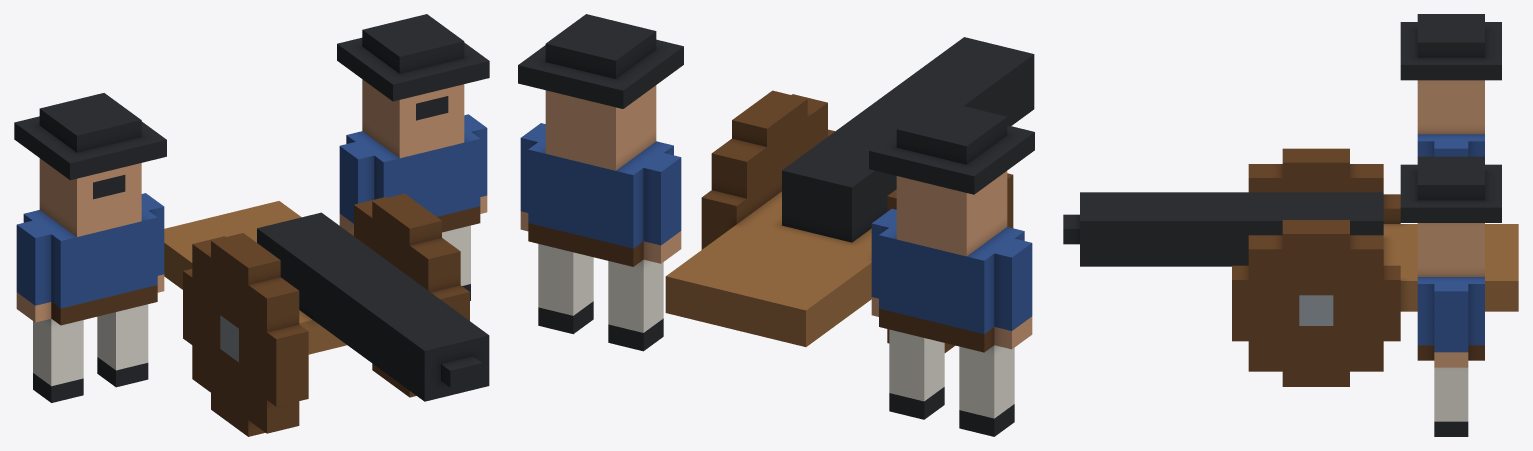
File: u_cannon.glb
The picture shows the model from 3 angles, left to right: view 1: azimuth 30°, elevation 25°; view 2: azimuth 150°, elevation 25°; view 3: azimuth 270°, elevation 25°; orthographic projection. The views are drawn at different scales.
Visible parts, largest first — view 1: u_cannon_body; view 2: u_cannon_body; view 3: u_cannon_body.
Boxes of the visible parts, x1,y1,x2,y2 form: u_cannon_body: [14, 14, 489, 436]; u_cannon_body: [518, 14, 1034, 436]; u_cannon_body: [1063, 14, 1518, 436].
Bounding box in the file's own units: 1.75 × 1 × 1.69.
Materials: 1 (1 with a texture image).
